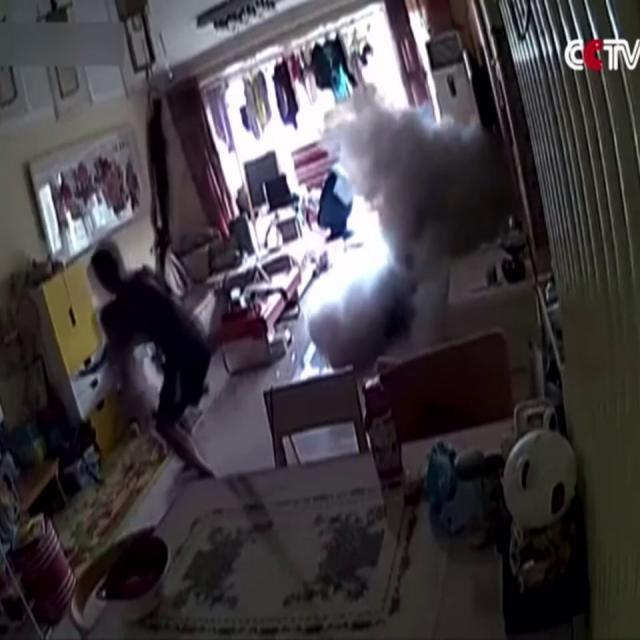Smoke: (324, 94, 506, 373)
